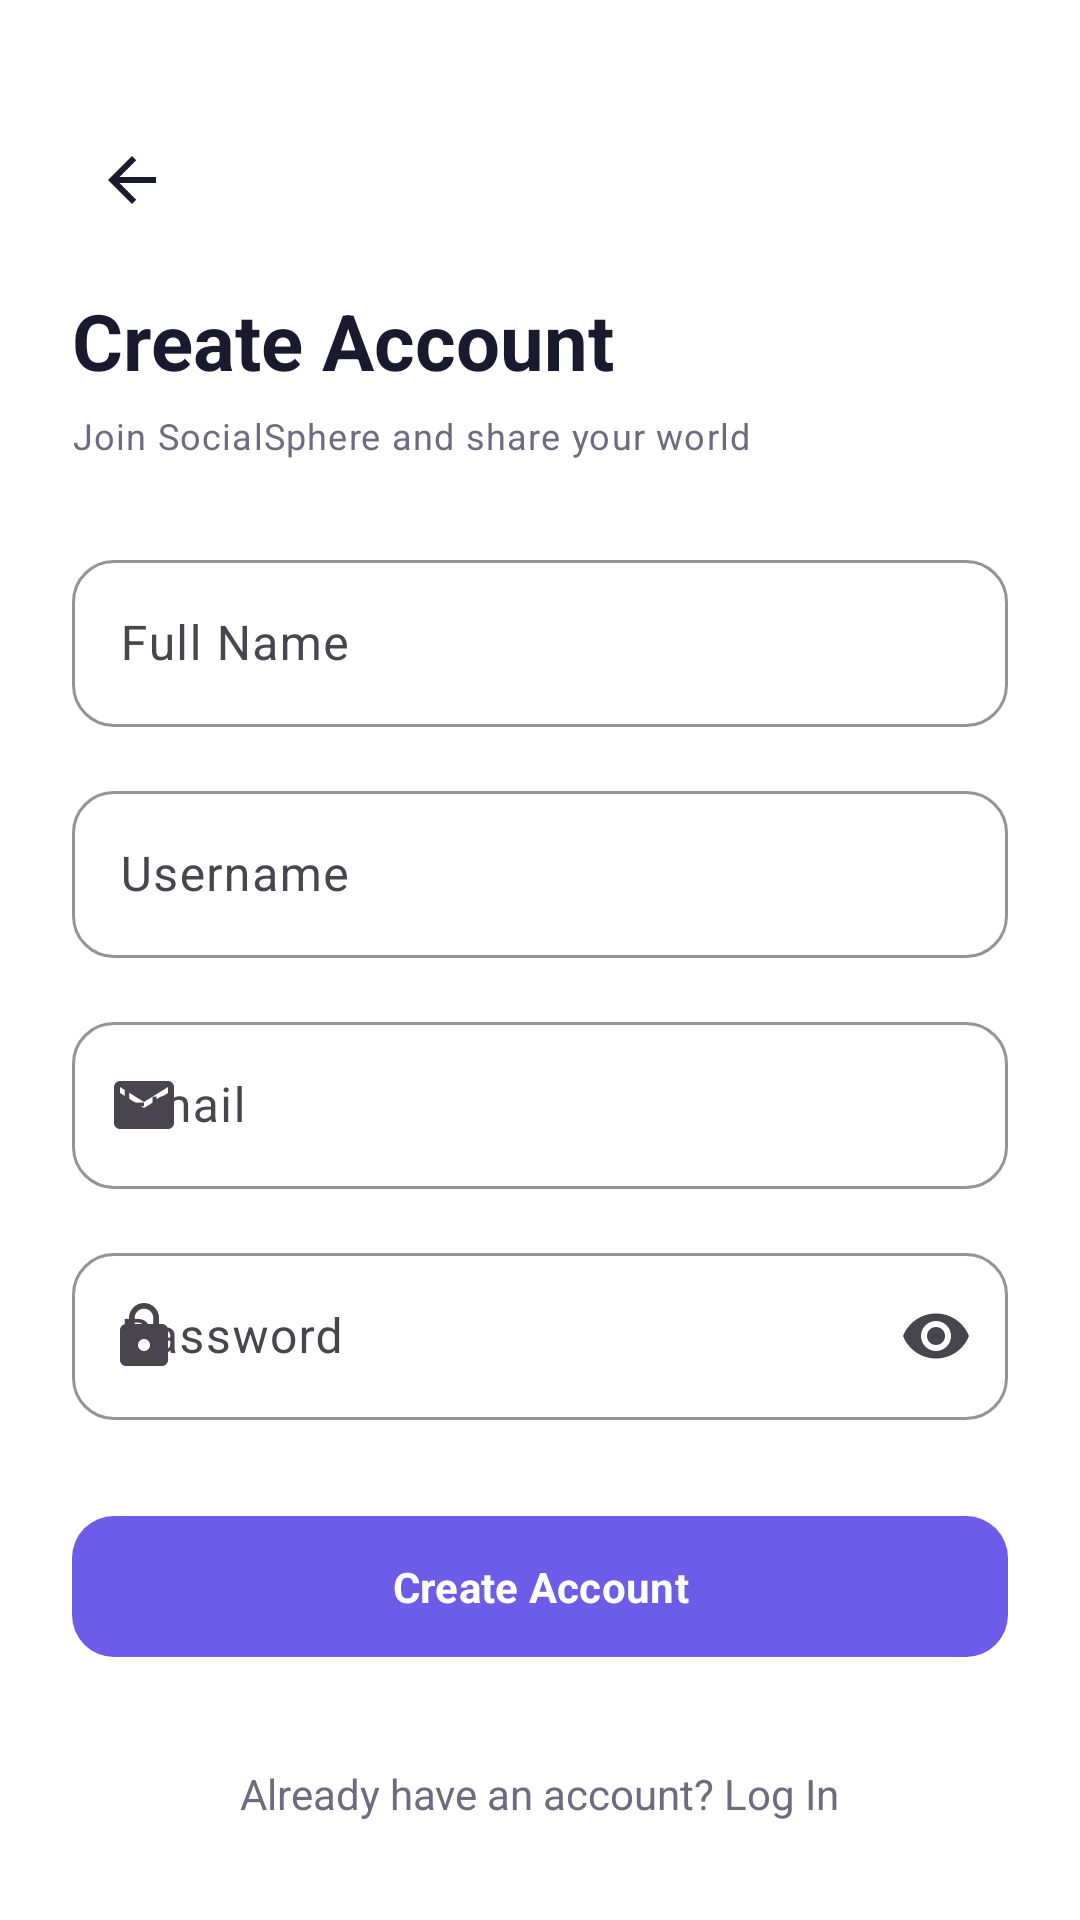

Named icons in this screenshot (1080px x 1920px) and their bounding boxes, (x1, y1, x2, y2):
back: (108, 156, 156, 204)
